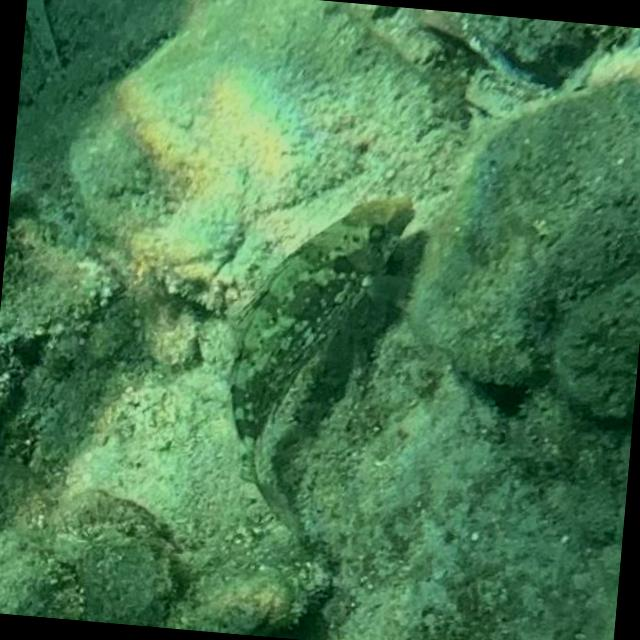Sokar Baligi: (178, 154, 450, 551)
